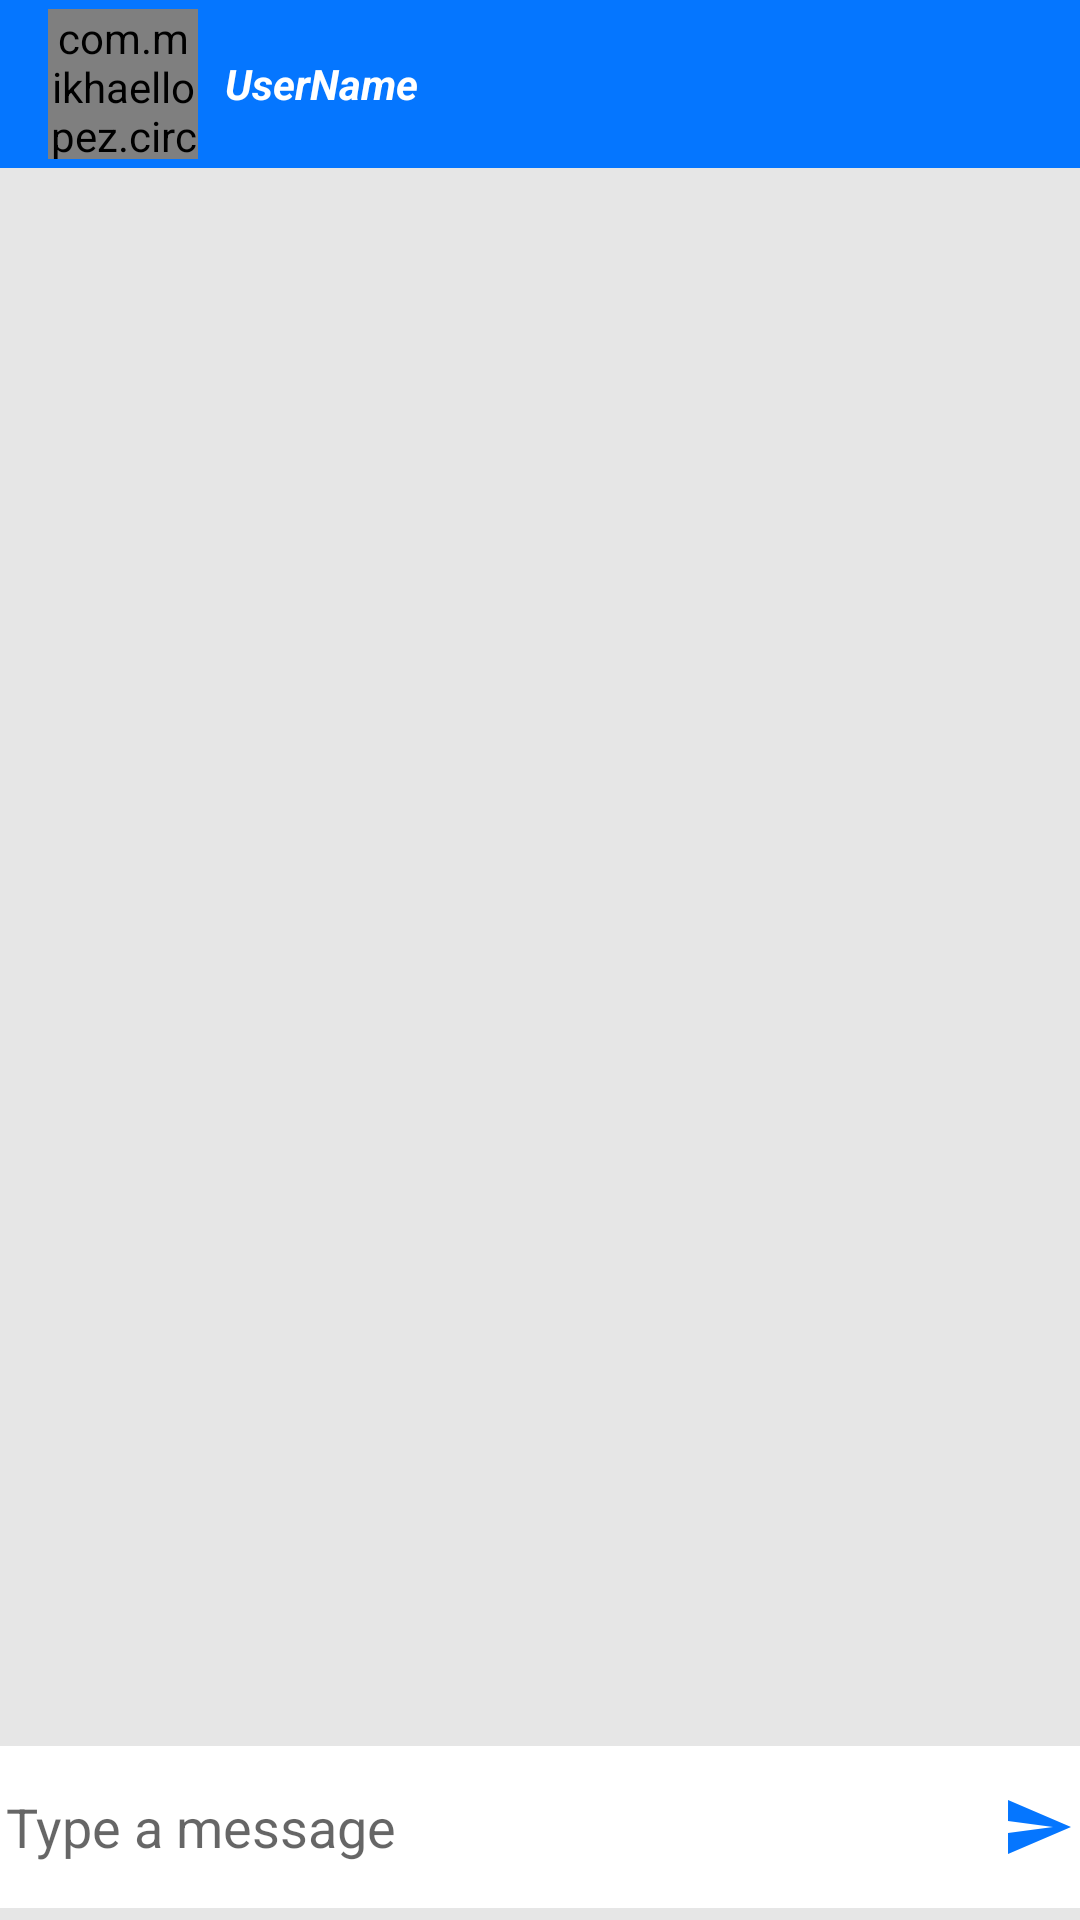

Icons on this 1080×1920 Android screen, each with the point to tap as [x,y]:
send: [1039,1827]
